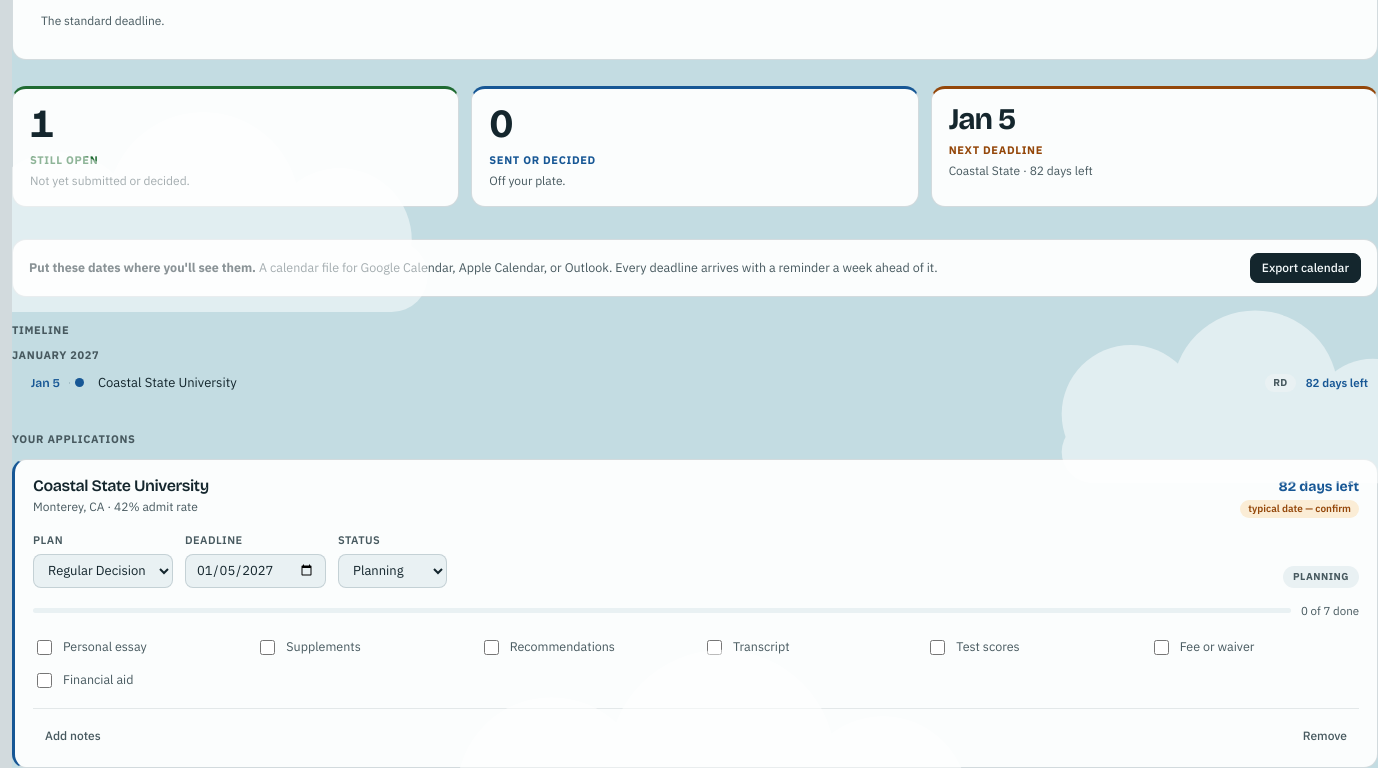
editing an application › ticks a checklist item straight away and saves it
(page scrolled)
Expected: the heading "Your applications" is shown, [12, 432, 136, 446]
Click the checkbox labelled "Personal essay" at (44, 647), box [37, 640, 52, 654]
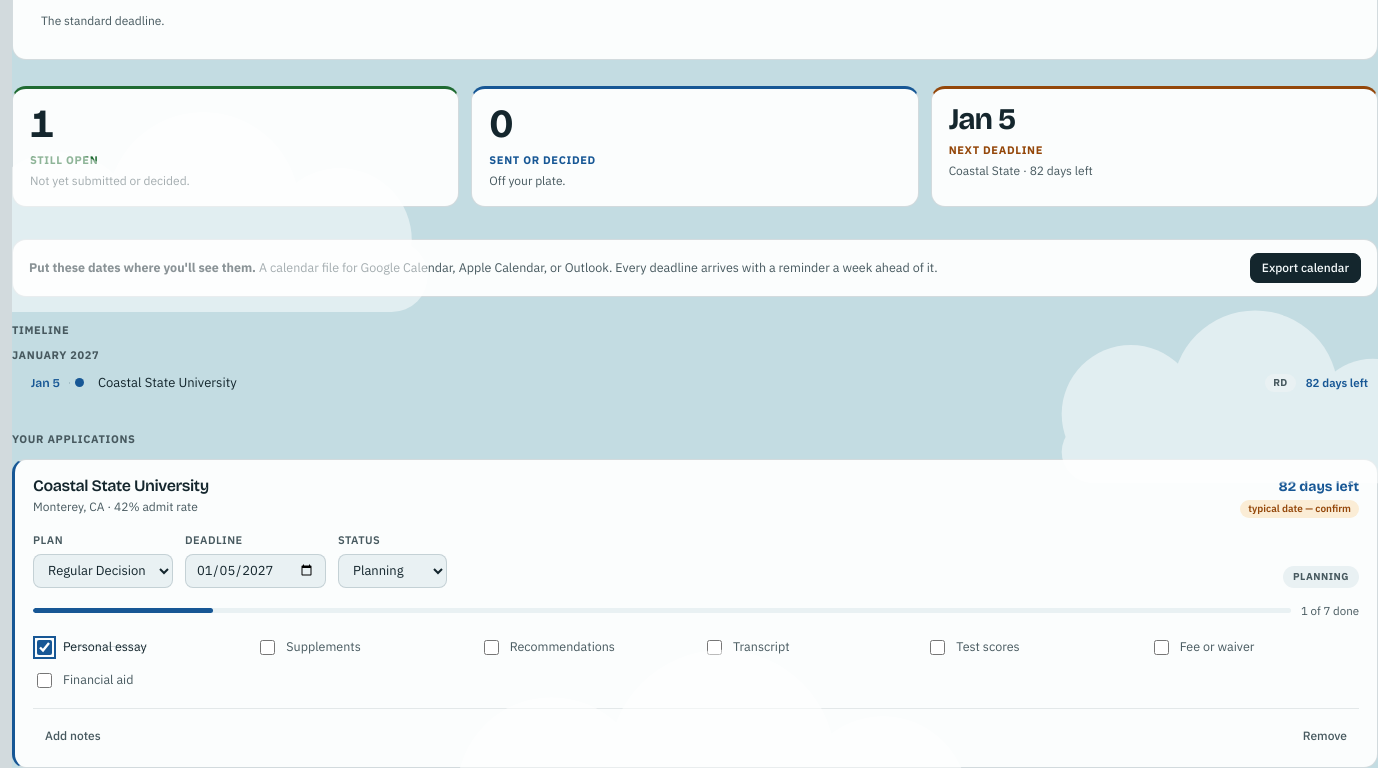
Expected: the checkbox labelled "Personal essay" is checked, [37, 640, 52, 654]
Expected: the text "1 of 7 done" is shown, [1301, 602, 1359, 620]
